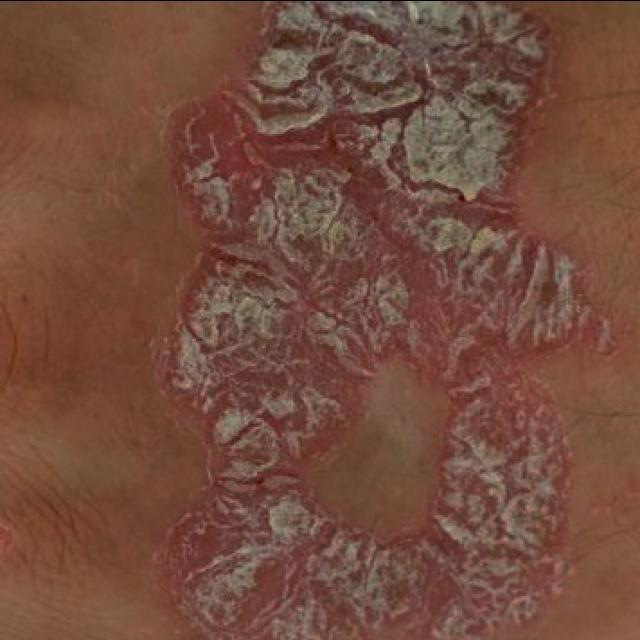Psoriasis: (163, 0, 608, 640)
